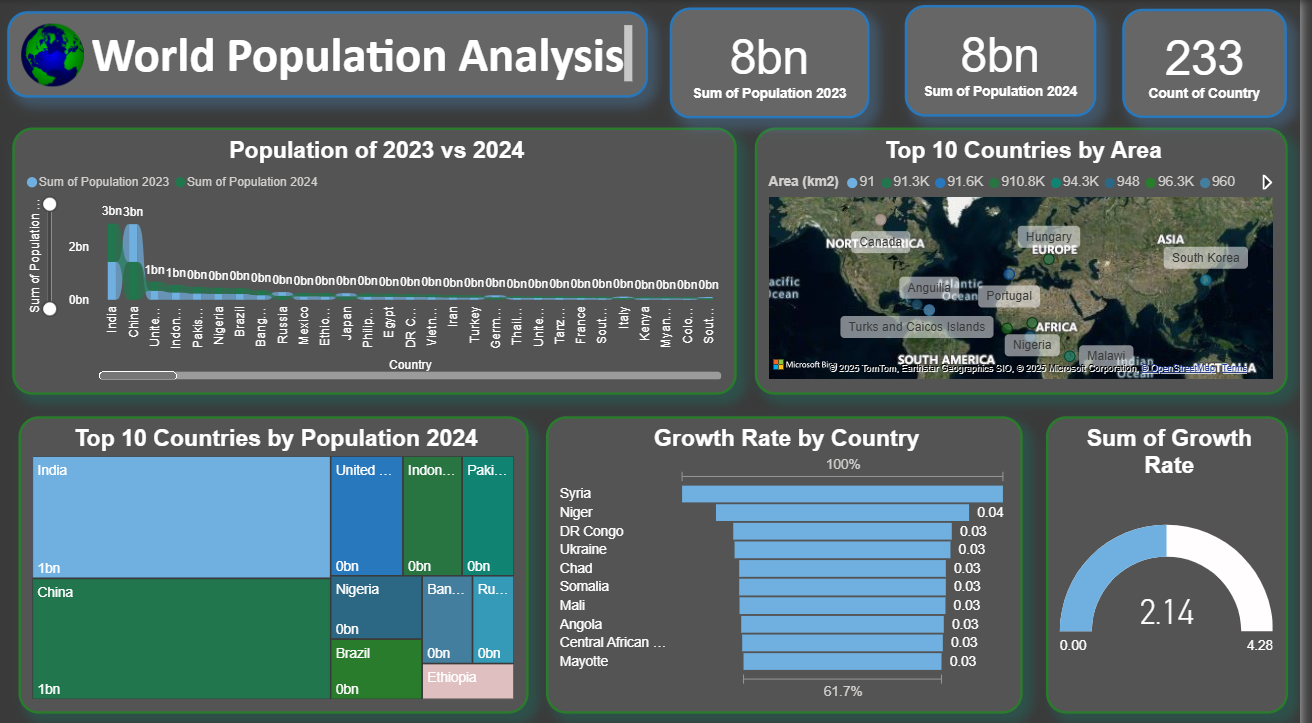

Layout of this report page (visuals, bound fields, positions):
{"tool":"powerbi","page":{"name":"Page 1","canvas":[1280,720],"ordinal":0},"visuals":[{"type":"map","title":"Top 10 Countries by Area","fields":{"Category":["World Population by country 2024.Country"],"Series":["World Population by country 2024.Area (km2)"]},"box":[745.1,124.9,522.8,262.1],"z":0},{"type":"ribbonChart","title":"Population of 2023 vs 2024","fields":{"Category":["World Population by country 2024.Country"],"Y":["Sum(World Population by country 2024.Population 2023)","Sum(World Population by country 2024.Population 2024)"]},"box":[16.5,124.9,710.8,262.1],"z":1000},{"type":"funnel","title":" Growth Rate by Country","fields":{"Category":["World Population by country 2024.Country"],"Y":["Sum(World Population by country 2024.Growth Rate)"]},"box":[539.3,408.9,467.9,292.3],"z":2000},{"type":"card","fields":{"Values":["Sum(World Population by country 2024.Population 2023)"]},"box":[661.4,6.9,196.2,108.4],"z":3000},{"type":"treemap","title":"Top 10 Countries by Population 2024","fields":{"Group":["World Population by country 2024.Country"],"Values":["Sum(World Population by country 2024.Population 2024)"]},"box":[22,408.9,500.9,292.3],"z":4000},{"type":"gauge","fields":{"Y":["Sum(World Population by country 2024.Growth Rate)"]},"box":[1030.5,408.9,237.4,292.3],"z":5000},{"type":"textbox","box":[11,11,628.5,85.1],"z":6000},{"type":"card","fields":{"Values":["Sum(World Population by country 2024.Population 2024)"]},"box":[891.9,5.5,188,109.8],"z":7000},{"type":"card","fields":{"Values":["CountNonNull(World Population by country 2024.Country)"]},"box":[1106,8.2,161.9,107],"z":8000},{"type":"image","box":[16.5,17.8,79.6,71.4],"z":9000}]}

Visuals, with their boxes in screenshot pixels (x1, y1, x2, y2), scaled from the page's 1280x720 canvas onto the 1312x723 screenshot:
"Top 10 Countries by Area" map: [764,125,1300,389]
"Population of 2023 vs 2024" ribbonChart: [17,125,745,389]
" Growth Rate by Country" funnel: [553,411,1032,704]
card - Sum(World Population by country 2024.Population 2023): [678,7,879,116]
"Top 10 Countries by Population 2024" treemap: [23,411,536,704]
gauge - Sum(World Population by country 2024.Growth Rate): [1056,411,1300,704]
textbox: [11,11,655,97]
card - Sum(World Population by country 2024.Population 2024): [914,6,1107,116]
card - CountNonNull(World Population by country 2024.Country): [1134,8,1300,116]
image: [17,18,99,90]
